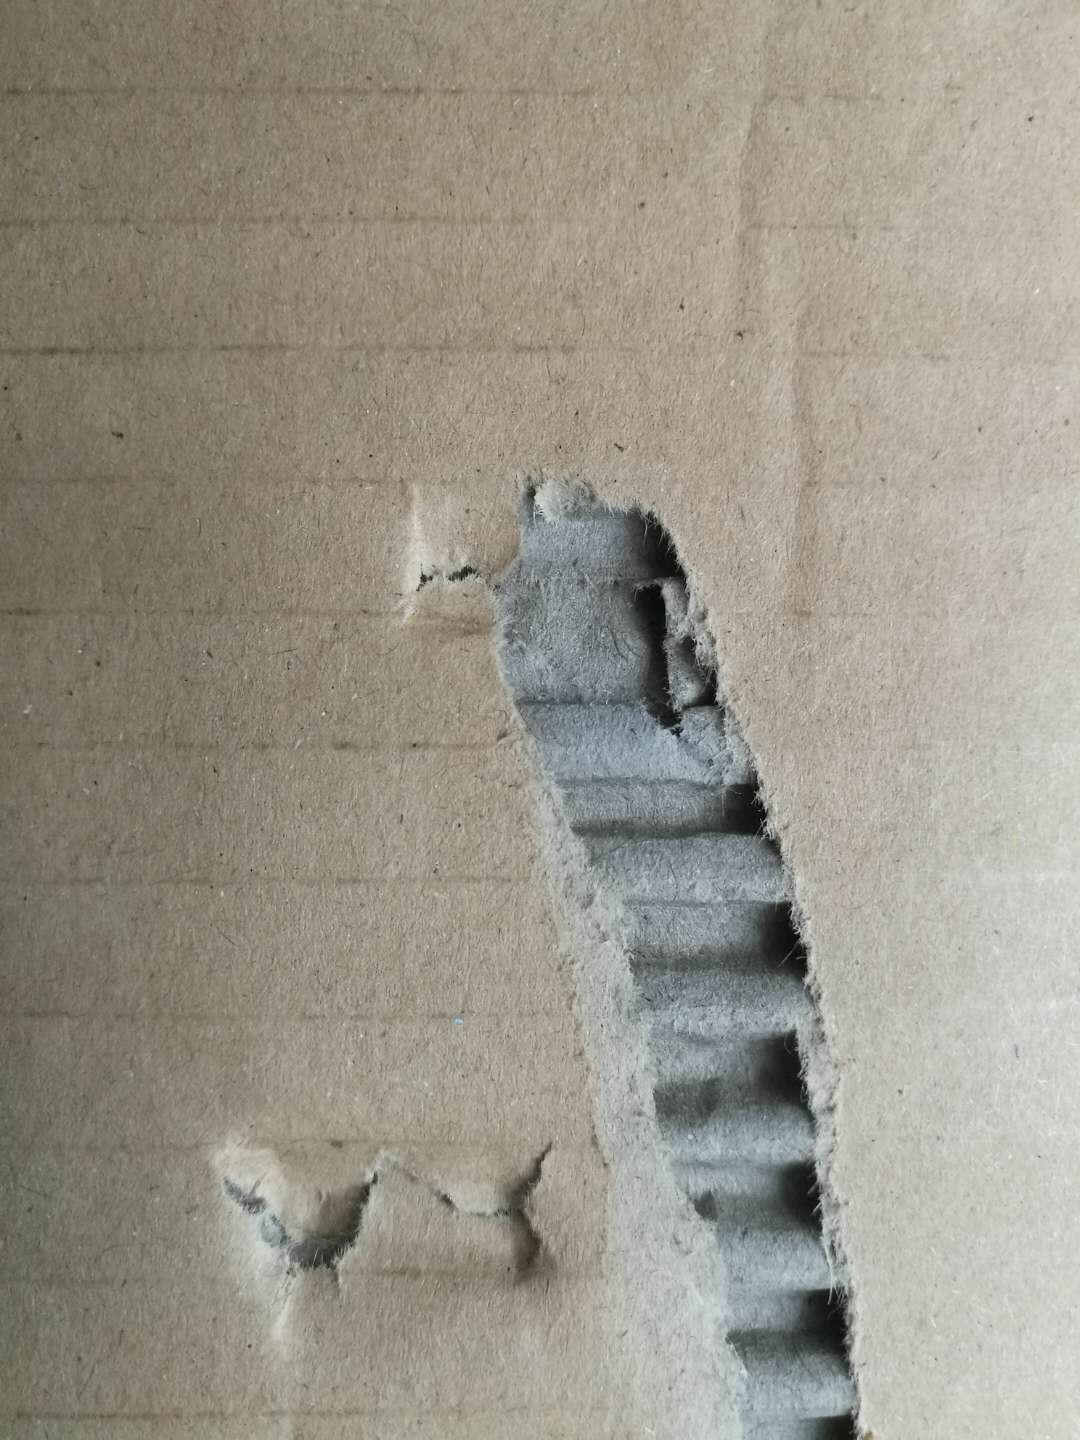defect: (346, 412, 951, 1440), (166, 1078, 583, 1435)
